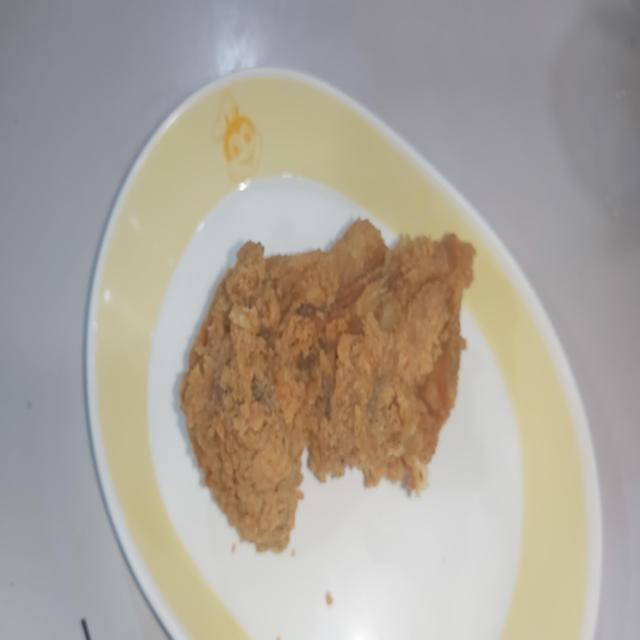Chicken -Fried Chicken-: (208, 232, 476, 516)
